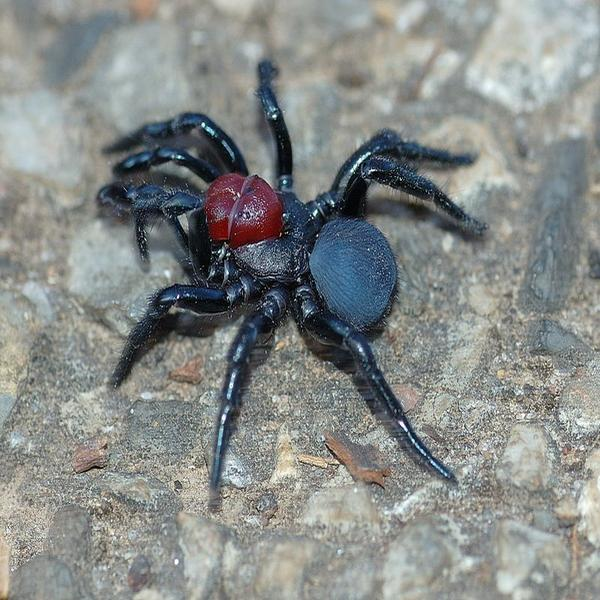Red Headed Mouse Spider: (122, 68, 475, 491)
